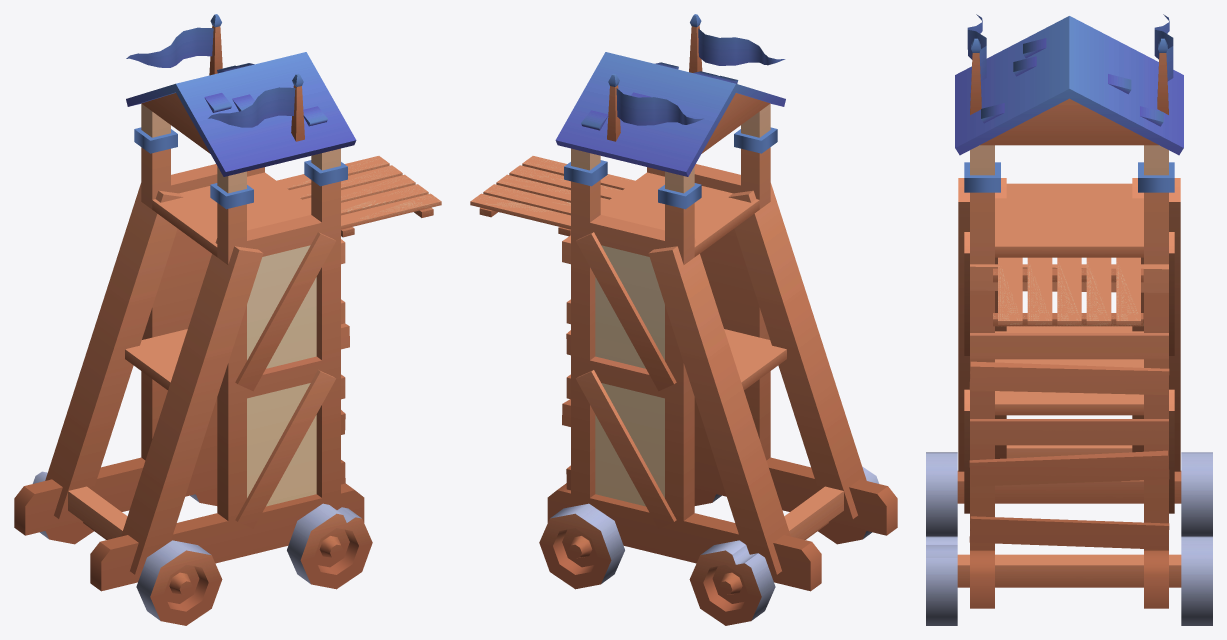
The model's file is siege-tower.glb.
The picture shows the model from 3 angles, left to right: view 1: azimuth 30°, elevation 25°; view 2: azimuth 150°, elevation 25°; view 3: azimuth 270°, elevation 25°; orthographic projection. The views are drawn at different scales.
Parts seen in each view (by area): view 1: siege-tower, wheel (×3); view 2: siege-tower, wheel (×3); view 3: siege-tower, wheel (×4).
Boxes of the visible parts, x1=… form: siege-tower: x1=14, y1=14, x2=441, y2=591; wheel (×3): x1=32, y1=471, x2=372, y2=625; siege-tower: x1=470, y1=14, x2=897, y2=591; wheel (×3): x1=539, y1=466, x2=879, y2=625; siege-tower: x1=955, y1=14, x2=1183, y2=608; wheel (×4): x1=926, y1=452, x2=1212, y2=625.
Size of the model in its own units: 1.97 by 2.68 by 1.21.
Materials: 1 (1 with a texture image).
